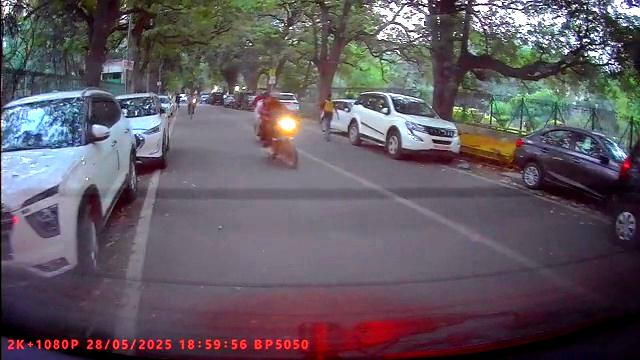motorcycle_with_helmet: (252, 86, 301, 170)
